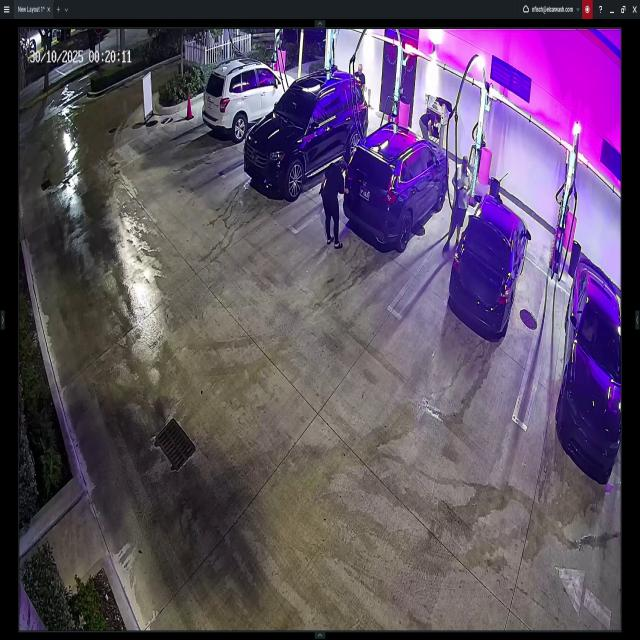Car: (244, 72, 368, 200), (342, 123, 448, 247), (564, 262, 621, 478), (452, 190, 528, 338), (202, 55, 301, 132), (279, 26, 328, 46)
